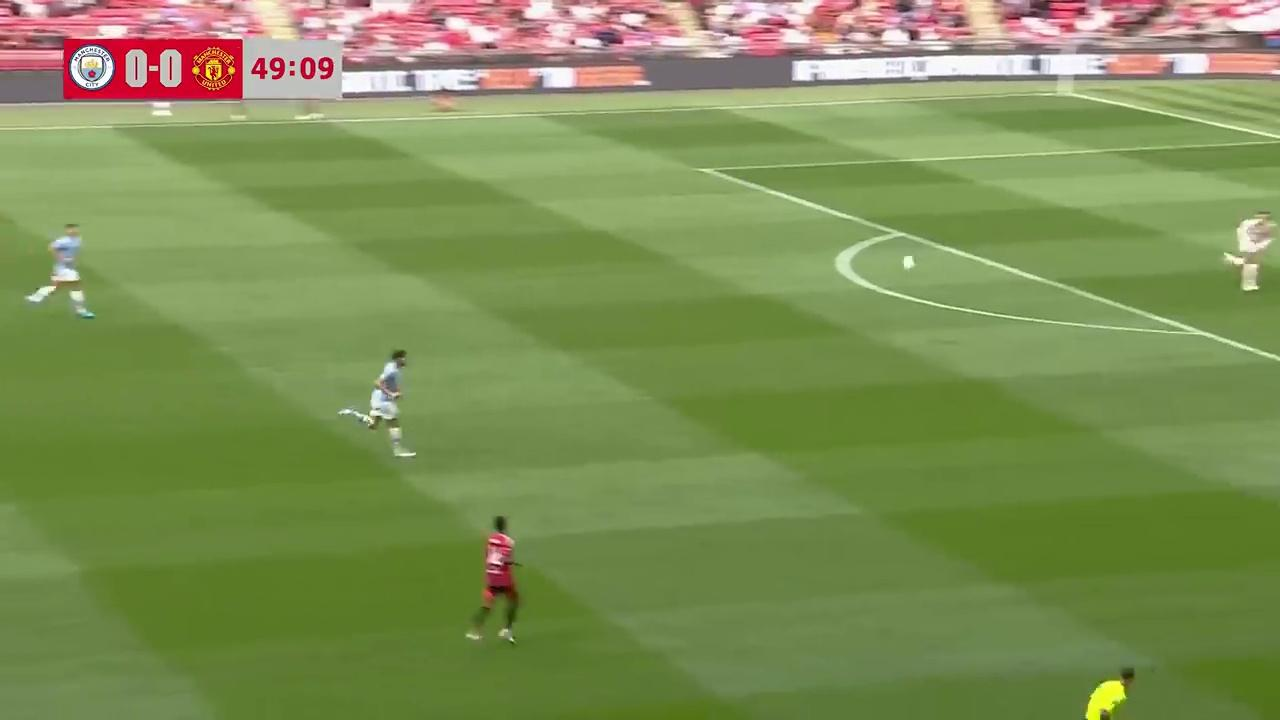ball: (900, 257, 920, 270)
player: (465, 515, 524, 648), (26, 223, 96, 320), (348, 349, 409, 457), (1226, 211, 1278, 291), (1226, 211, 1276, 292)
referee: (1084, 666, 1136, 720)
